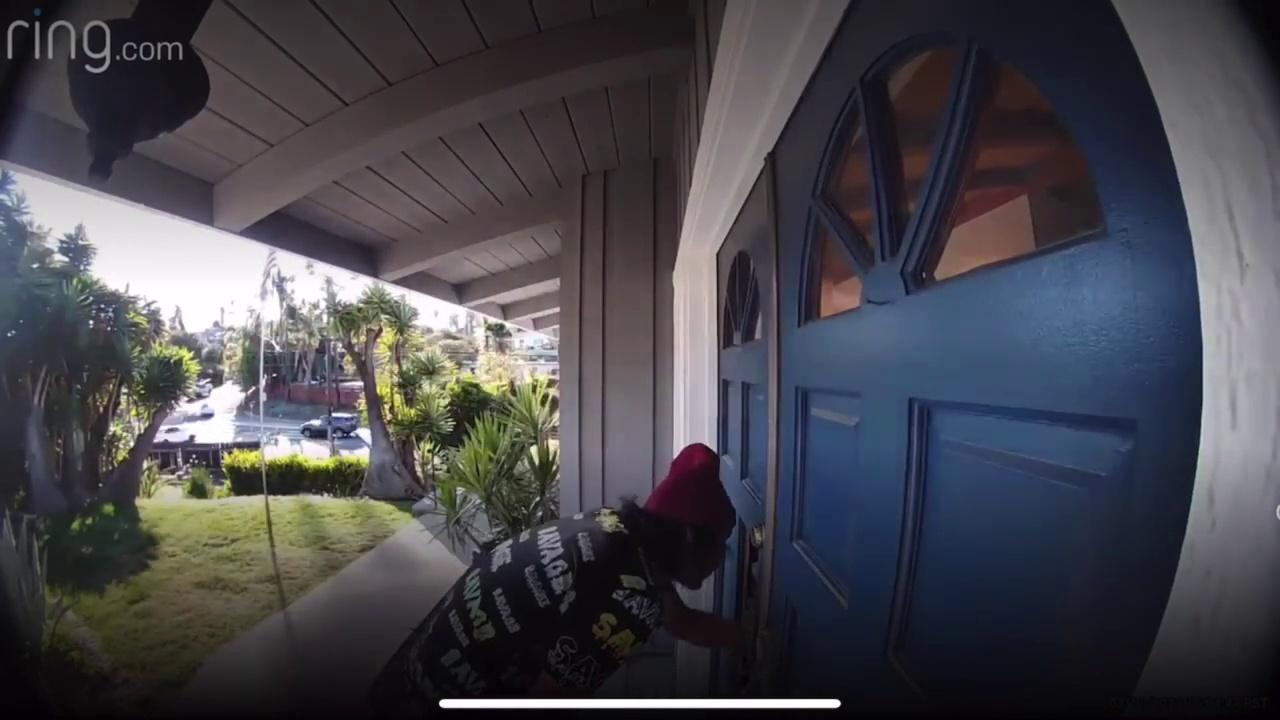suspicion: (342, 398, 772, 708)
